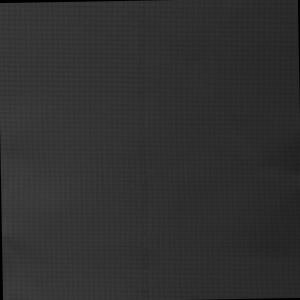Wrinkle: (213, 136, 300, 277), (1, 106, 54, 282)
